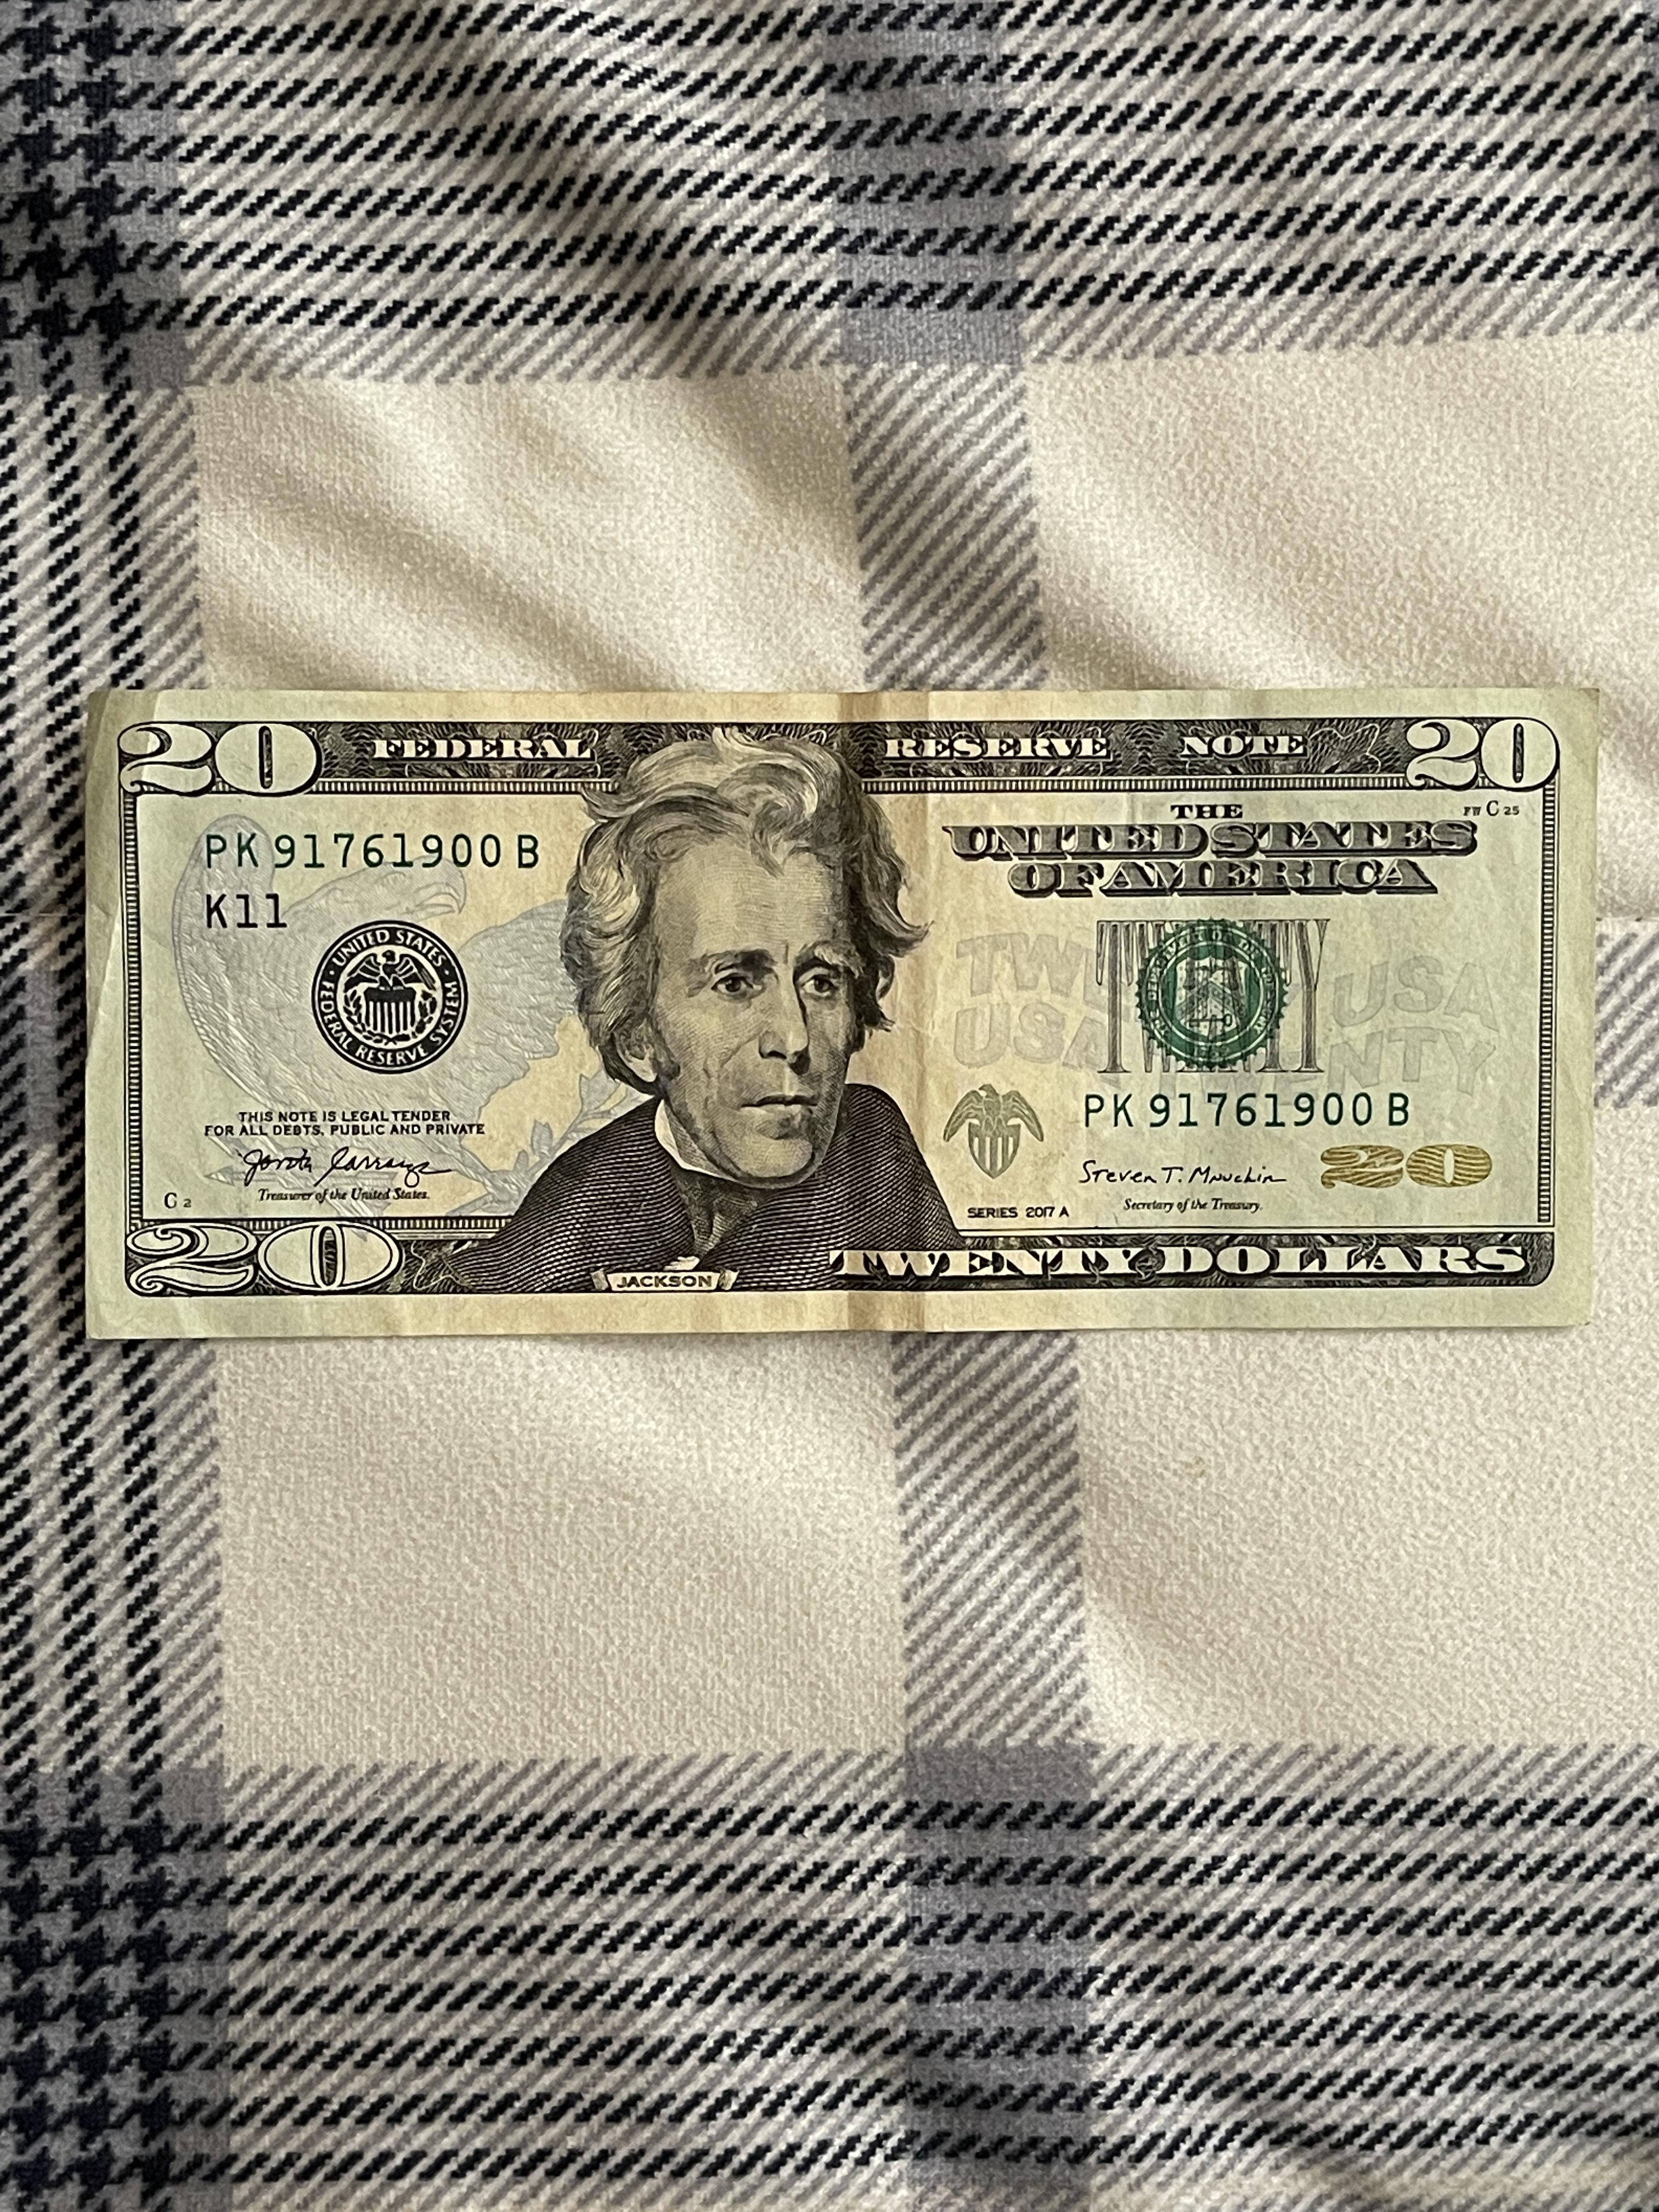TwentyBill: (77, 681, 1607, 1346)
